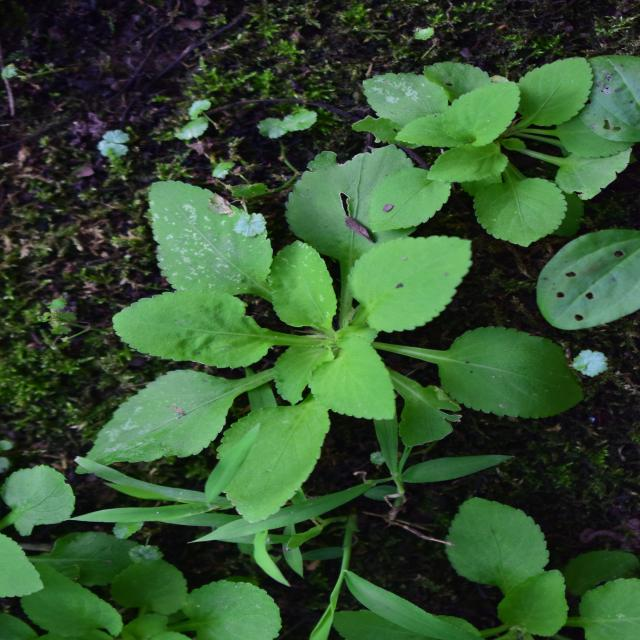Viola: (158, 93, 480, 468), (417, 360, 582, 594)
